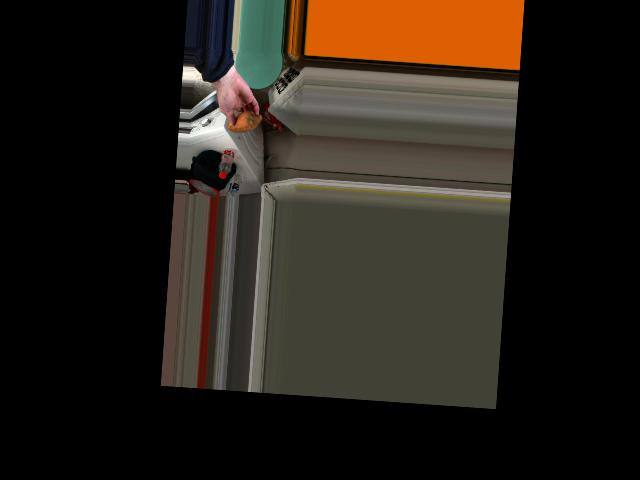sweet_potato: (228, 106, 259, 134)
